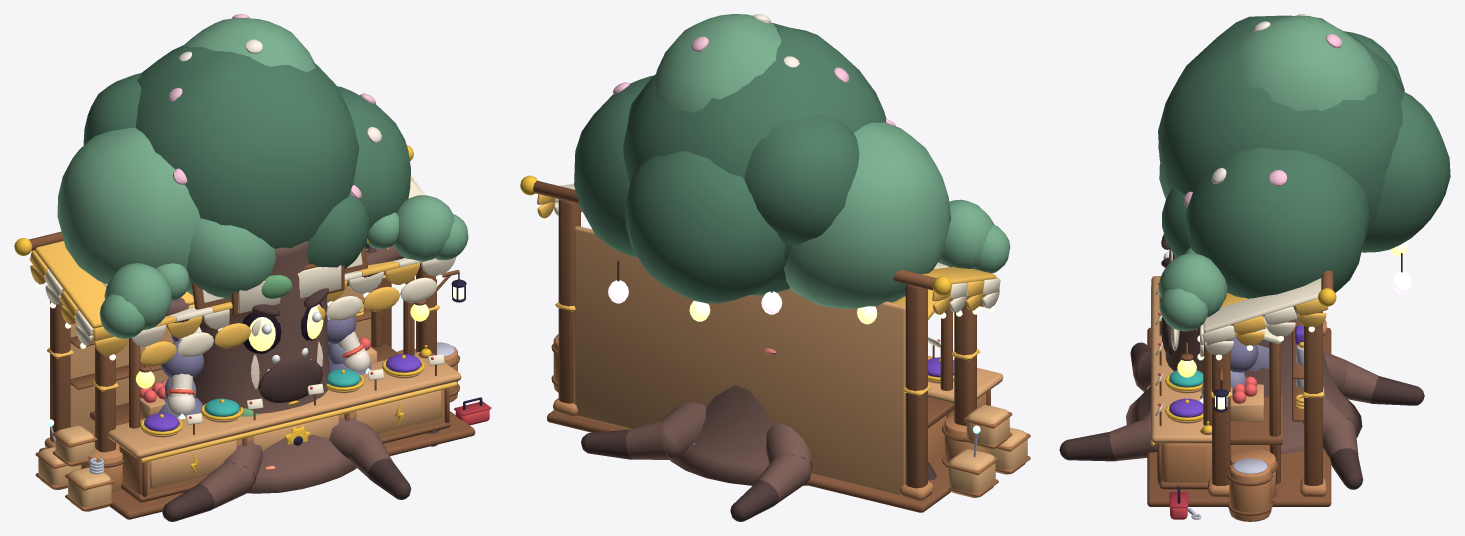
The model's file is creatures.glb.
The picture shows the model from 3 angles, left to right: view 1: azimuth 30°, elevation 25°; view 2: azimuth 150°, elevation 25°; view 3: azimuth 270°, elevation 25°; orthographic projection. The views are drawn at different scales.
Visible parts, largest first — view 1: Boss_Oak_canopy, Stall_B, Boss_Oak, Stall_A, Boss_Oak_armR, Boss_Oak_armL, Boss_Oak_rootR, Boss_Oak_rootL, Boss_Pebble_armL, Boss_Pebble_armR, Boss_Beacon_armL, Boss_Beacon_armR (+1 smaller); view 2: Boss_Oak_canopy, Stall_B, Boss_Oak, Boss_Oak_armL, Stall_A; view 3: Boss_Oak_canopy, Stall_B, Boss_Oak, Stall_A, Boss_Oak_armR, Boss_Oak_rootL, Boss_Pebble_armR, Boss_Oak_rootR.
Part boxes in pixels (<box>): Boss_Oak_canopy: <box>57,14,410,299</box>; Stall_B: <box>14,145,491,519</box>; Boss_Oak: <box>161,241,438,493</box>; Stall_A: <box>81,258,437,494</box>; Boss_Oak_armR: <box>347,195,468,285</box>; Boss_Oak_armL: <box>99,263,204,338</box>; Boss_Oak_rootR: <box>162,440,262,521</box>; Boss_Oak_rootL: <box>329,417,410,499</box>; Boss_Pebble_armL: <box>158,341,203,419</box>; Boss_Pebble_armR: <box>327,316,371,374</box>; Boss_Beacon_armL: <box>167,327,201,415</box>; Boss_Beacon_armR: <box>327,306,370,371</box>; Boss_Oak_canopy: <box>574,14,950,324</box>; Stall_B: <box>520,175,1030,512</box>; Boss_Oak: <box>581,348,936,521</box>; Boss_Oak_armL: <box>938,199,1010,273</box>; Stall_A: <box>892,289,989,465</box>; Boss_Oak_canopy: <box>1158,14,1450,310</box>; Stall_B: <box>1147,270,1336,521</box>; Boss_Oak: <box>1126,248,1424,489</box>; Stall_A: <box>1170,249,1282,502</box>; Boss_Oak_armR: <box>1158,247,1227,331</box>; Boss_Oak_rootL: <box>1059,409,1157,461</box>; Boss_Pebble_armR: <box>1199,334,1258,403</box>; Boss_Oak_rootR: <box>1130,342,1150,391</box>.
Bounding box in the file's own units: 8.76 × 8.45 × 7.12.
